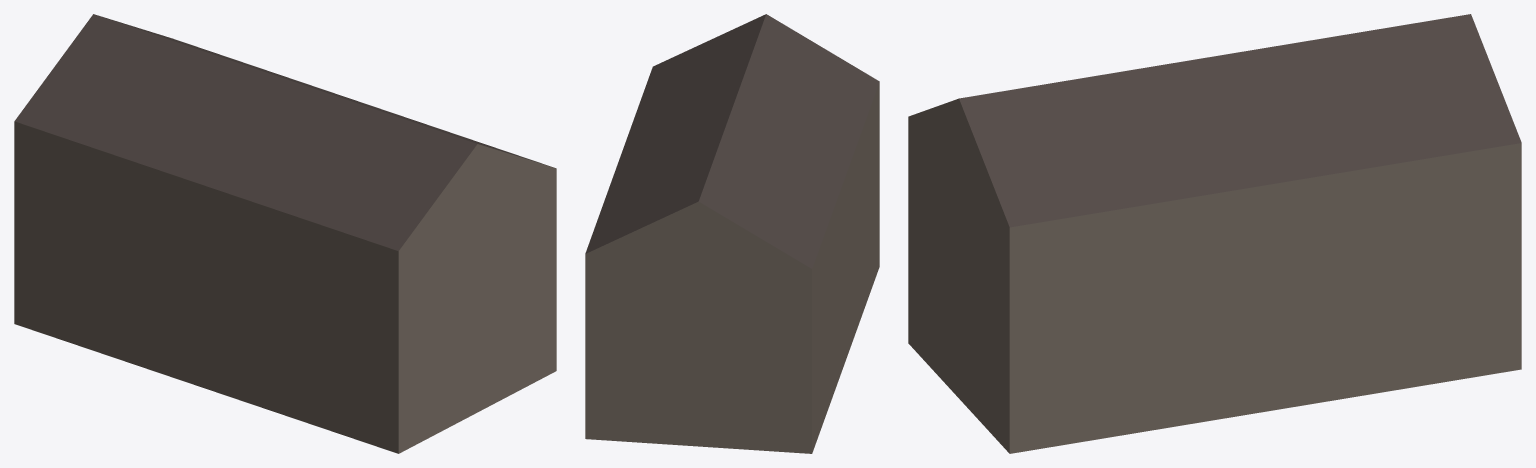
3 renders of one model, left to right at view 1: azimuth 30°, elevation 25°; view 2: azimuth 150°, elevation 25°; view 3: azimuth 270°, elevation 25°, orthographic. The views are drawn at different scales.
Parts seen in each view (by area): view 1: HP-w408450651; view 2: HP-w408450651; view 3: HP-w408450651.
Part boxes in pixels (x1=…): HP-w408450651: x1=14, y1=14, x2=556, y2=453; HP-w408450651: x1=585, y1=14, x2=879, y2=453; HP-w408450651: x1=908, y1=14, x2=1521, y2=453.
Bounding box in the file's own units: 11.1 × 7.95 × 14.74.
